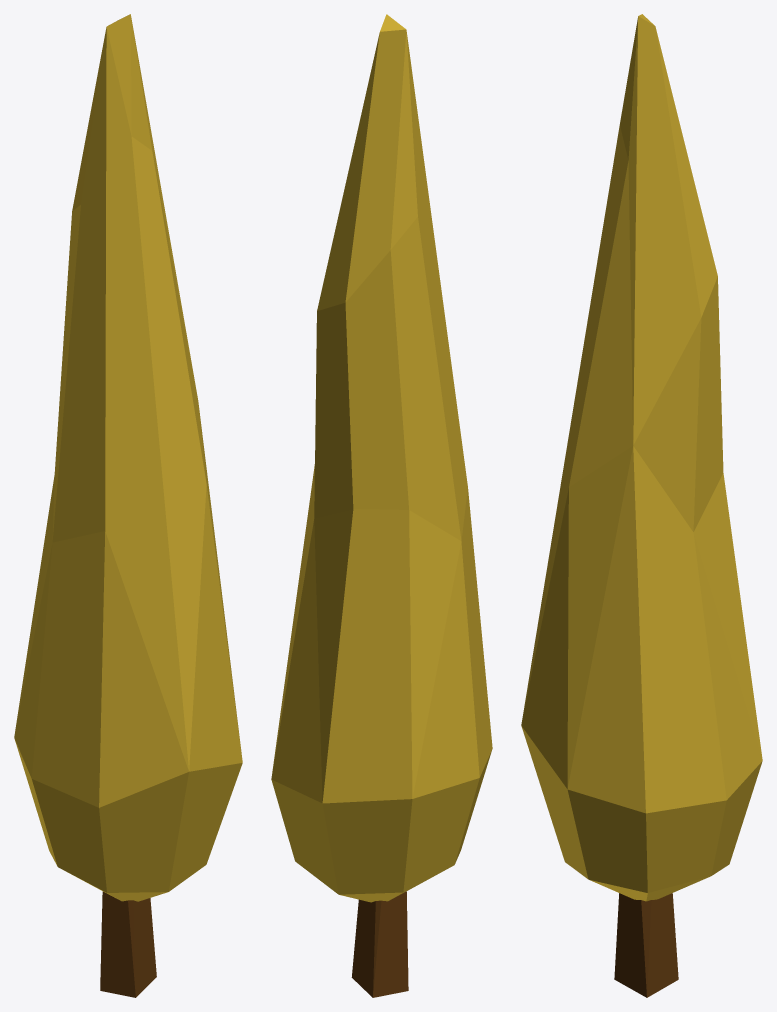
Rendered from co_Tree13_B.fbx.
3 views of the same model, side by side, from view 1: azimuth 30°, elevation 25°; view 2: azimuth 150°, elevation 25°; view 3: azimuth 270°, elevation 25° (orthographic).
Parts seen in each view (by area): view 1: Tree13_B_LOD0; view 2: Tree13_B_LOD0; view 3: Tree13_B_LOD0.
Boxes of the visible parts, x1,y1,x2,y2 form: Tree13_B_LOD0: [14, 14, 242, 997]; Tree13_B_LOD0: [271, 14, 492, 997]; Tree13_B_LOD0: [521, 14, 762, 997].
Size of what is drawn, in the model's own units: 6.79 by 31.93 by 7.23.
